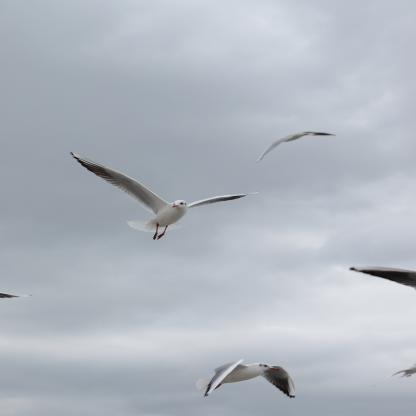bird: (71, 150, 259, 240), (195, 358, 295, 401), (260, 130, 335, 161)
